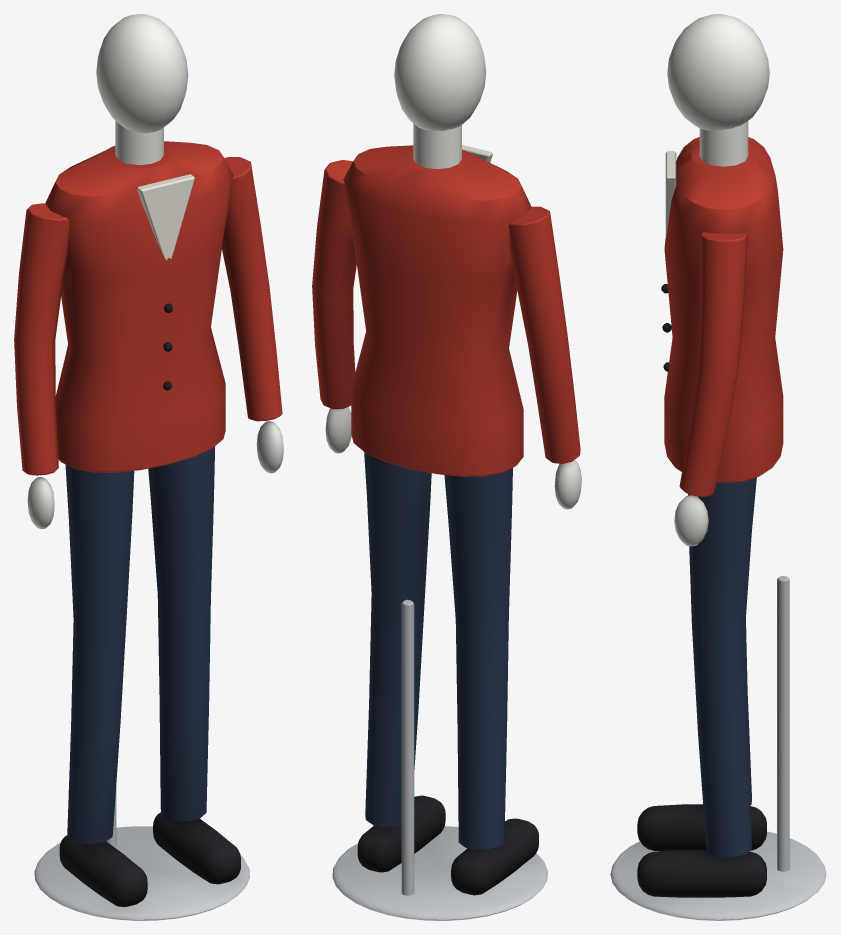
The model's file is mannequin.glb.
3 views of the same model, side by side, from view 1: azimuth 30°, elevation 25°; view 2: azimuth 150°, elevation 25°; view 3: azimuth 270°, elevation 25° (orthographic).
Visible parts, largest first — view 1: mannequin; view 2: mannequin; view 3: mannequin.
Boxes of the visible parts, bbox=[...] form: mannequin: bbox=[14, 14, 283, 920]; mannequin: bbox=[312, 14, 581, 920]; mannequin: bbox=[610, 14, 826, 920].
Bounding box in the file's own units: 0.5466 × 1.75 × 0.4.
